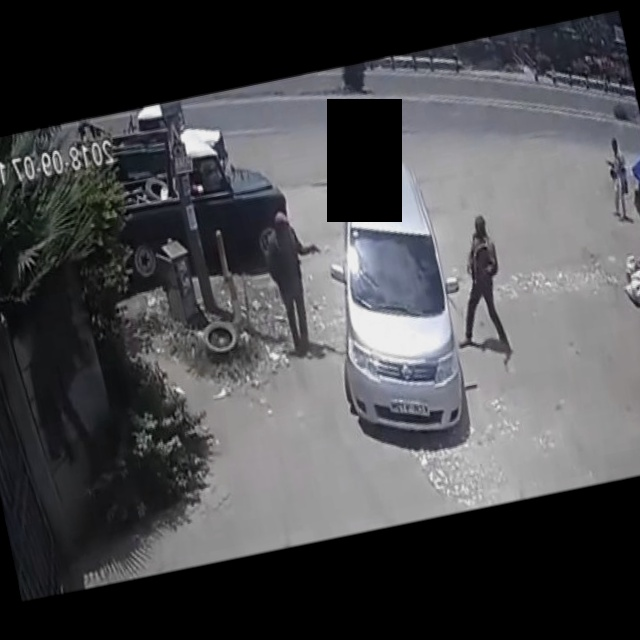gun: (307, 239, 324, 257)
